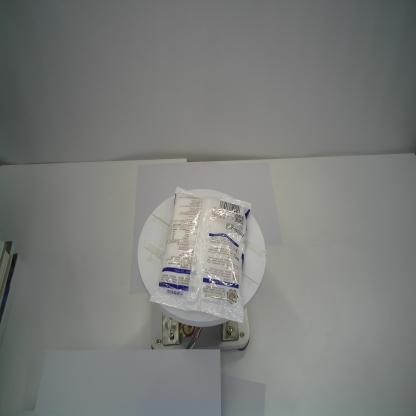Seasoner: (148, 185, 252, 325)
